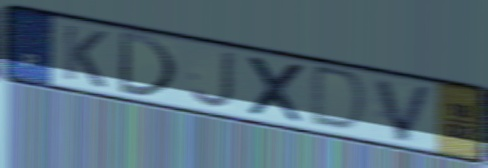D: (115, 29, 180, 101), (307, 63, 371, 136)
J: (187, 48, 237, 112)
K: (60, 21, 109, 92)
V: (371, 75, 438, 145)
X: (244, 52, 308, 127)
